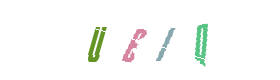E: (92, 0, 172, 80)
I: (99, 0, 179, 80)
Q: (145, 0, 225, 80)
U: (56, 0, 136, 80)
